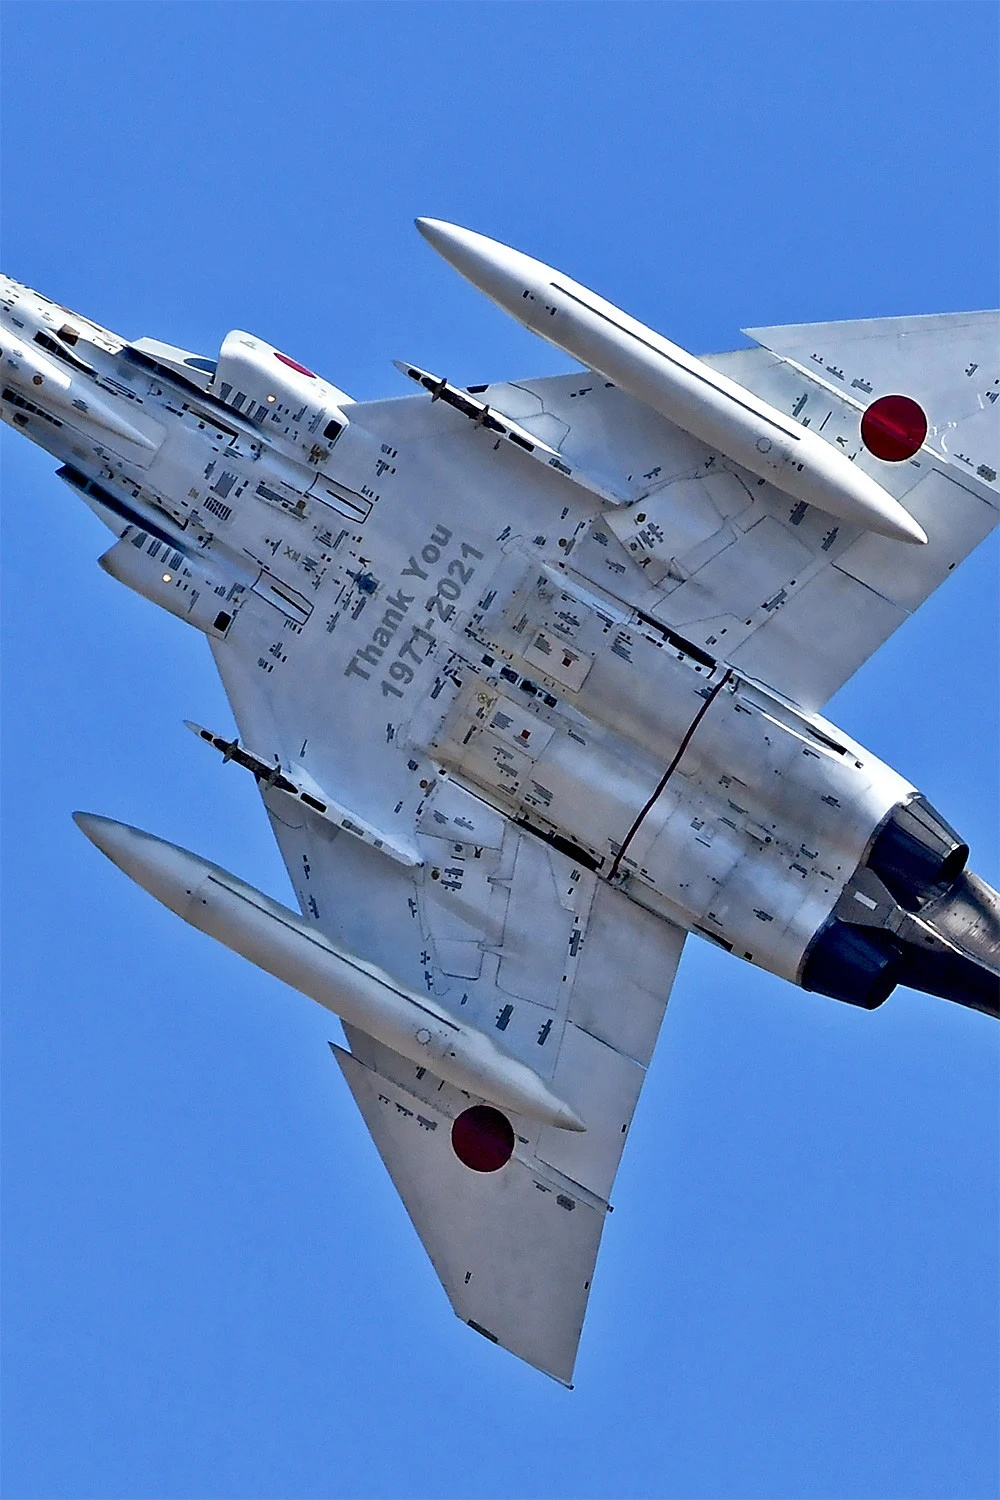F4: (1, 217, 1000, 1391)
